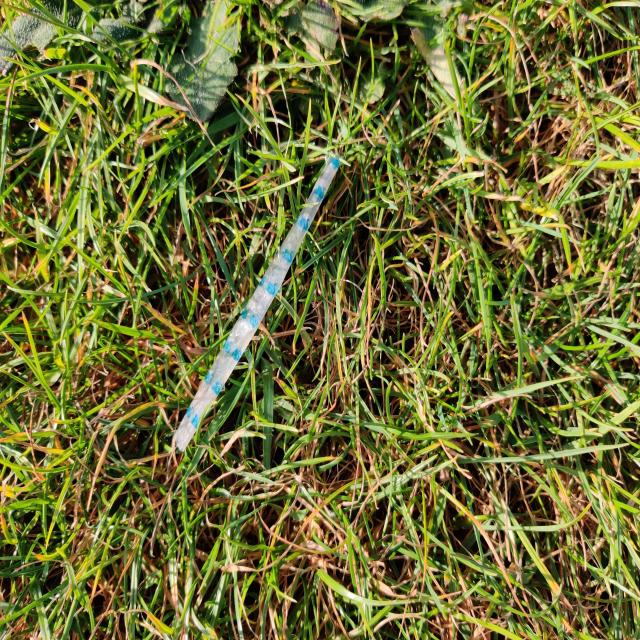litter: (174, 152, 343, 452)
